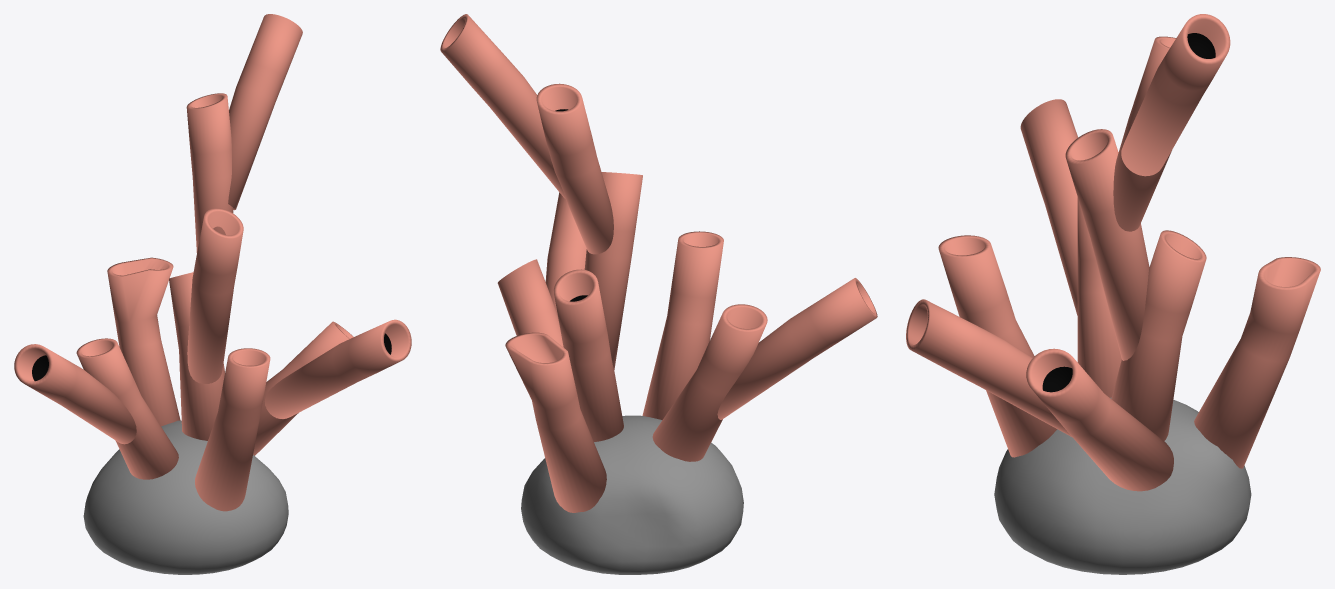
Rendered from Coral.glb.
3 renders of one model, left to right at view 1: azimuth 30°, elevation 25°; view 2: azimuth 150°, elevation 25°; view 3: azimuth 270°, elevation 25°, orthographic. The views are drawn at different scales.
Visible parts, largest first — view 1: Coral; view 2: Coral; view 3: Coral.
Boxes of the visible parts, box(x1,y1,x2,y2) form: Coral: box(14, 14, 411, 574); Coral: box(440, 14, 877, 574); Coral: box(906, 14, 1320, 574).
Bounding box in the file's own units: 14.51 × 19.12 × 12.13.
